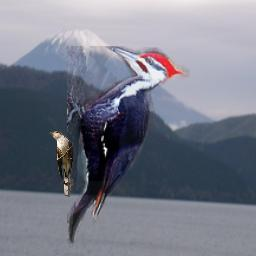Cuckoo: (49, 131, 73, 197)
Woodpecker: (67, 46, 190, 248)
